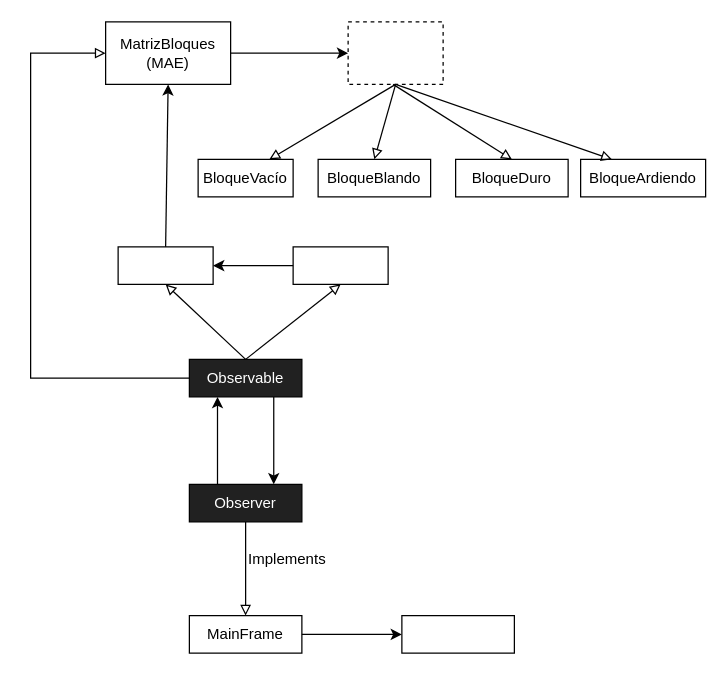
Some shapes in this 728 by 675 pixel diagram are drawn without their labels. The shapes that lost their labels are listed below. From the top down, each one's centre as x and y in pixels, then its label:
(395,52): Bloque
(165,265): Bomba
(340,265): Bomberman
(457,633): Controller
